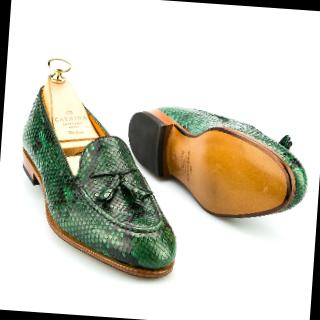loafers: (9, 55, 317, 293)
